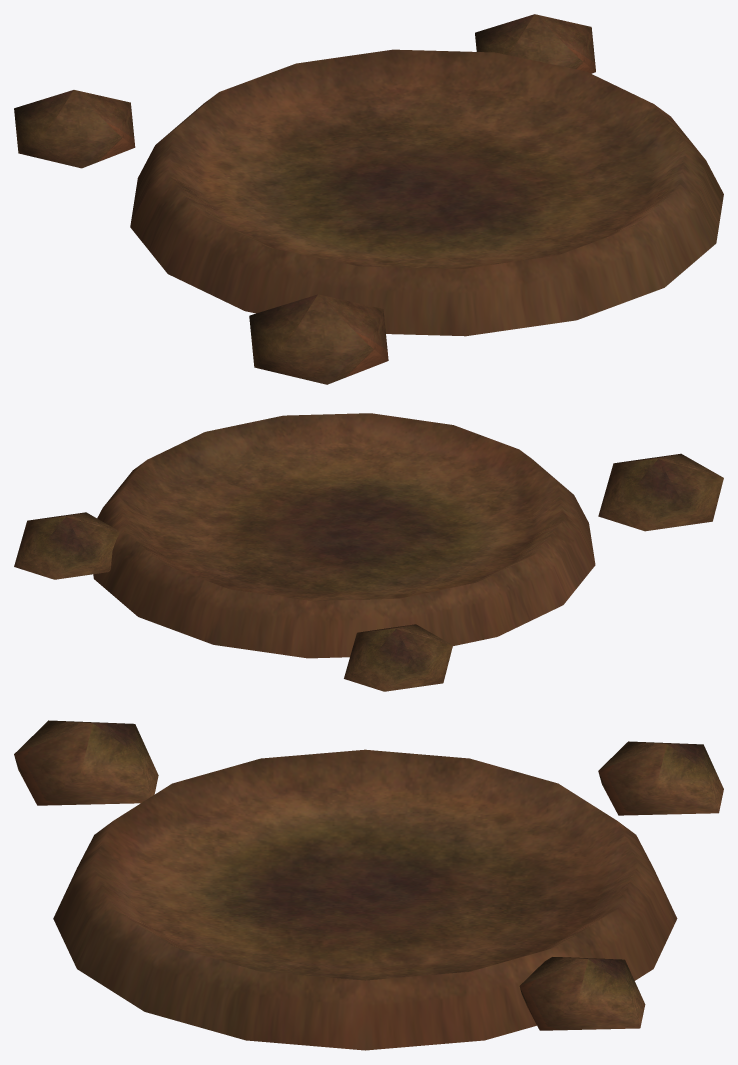
Rendered from hole.glb.
3 views of the same model, one above another, from view 1: azimuth 30°, elevation 25°; view 2: azimuth 150°, elevation 25°; view 3: azimuth 270°, elevation 25° (orthographic). The views are drawn at different scales.
Visible parts, largest first — view 1: Circle; view 2: Circle; view 3: Circle.
Boxes of the visible parts, x1,y1,x2,y2 form: Circle: (14, 14, 723, 384); Circle: (14, 413, 723, 691); Circle: (14, 720, 723, 1050).
Size of the model in its own units: 1.09 by 0.1293 by 1.13.
1 material, 1 textured.
